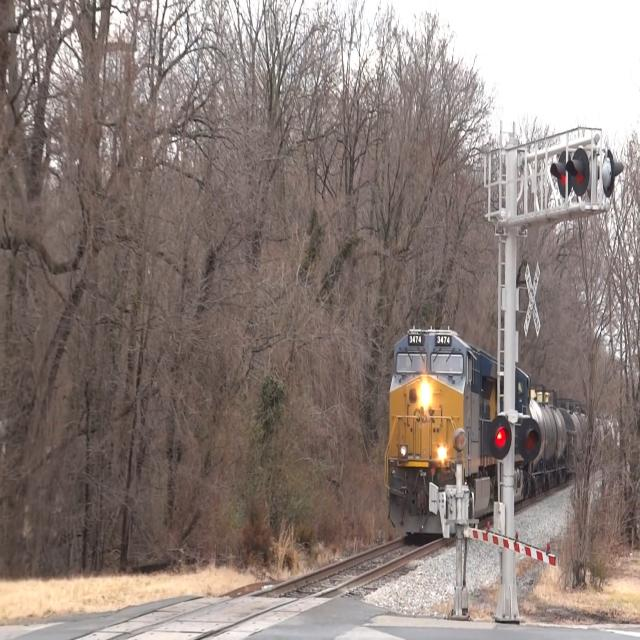locomotive: (381, 323, 513, 549)
